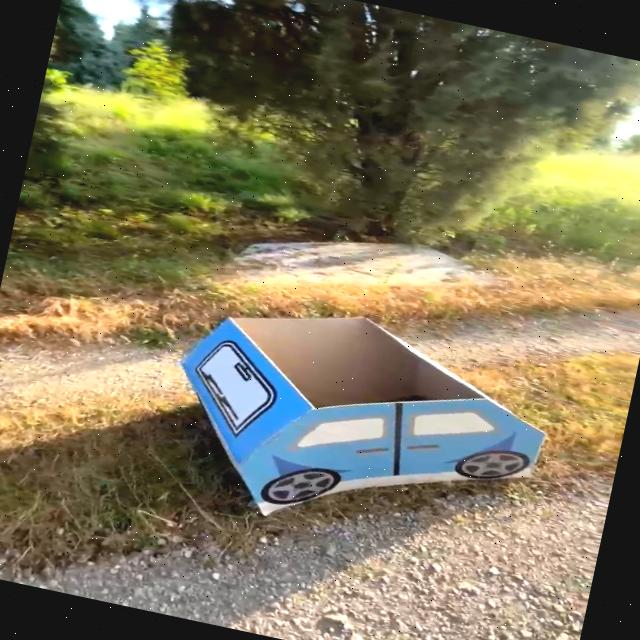blue_car: (102, 246, 612, 590)
